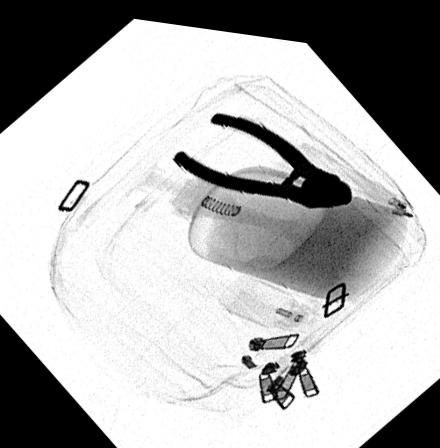Pliers: (172, 104, 353, 198)
